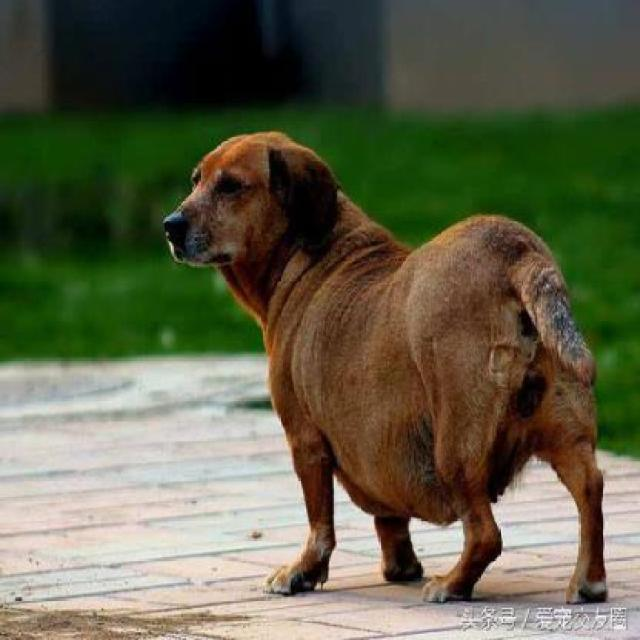Dog: (160, 117, 614, 606)
